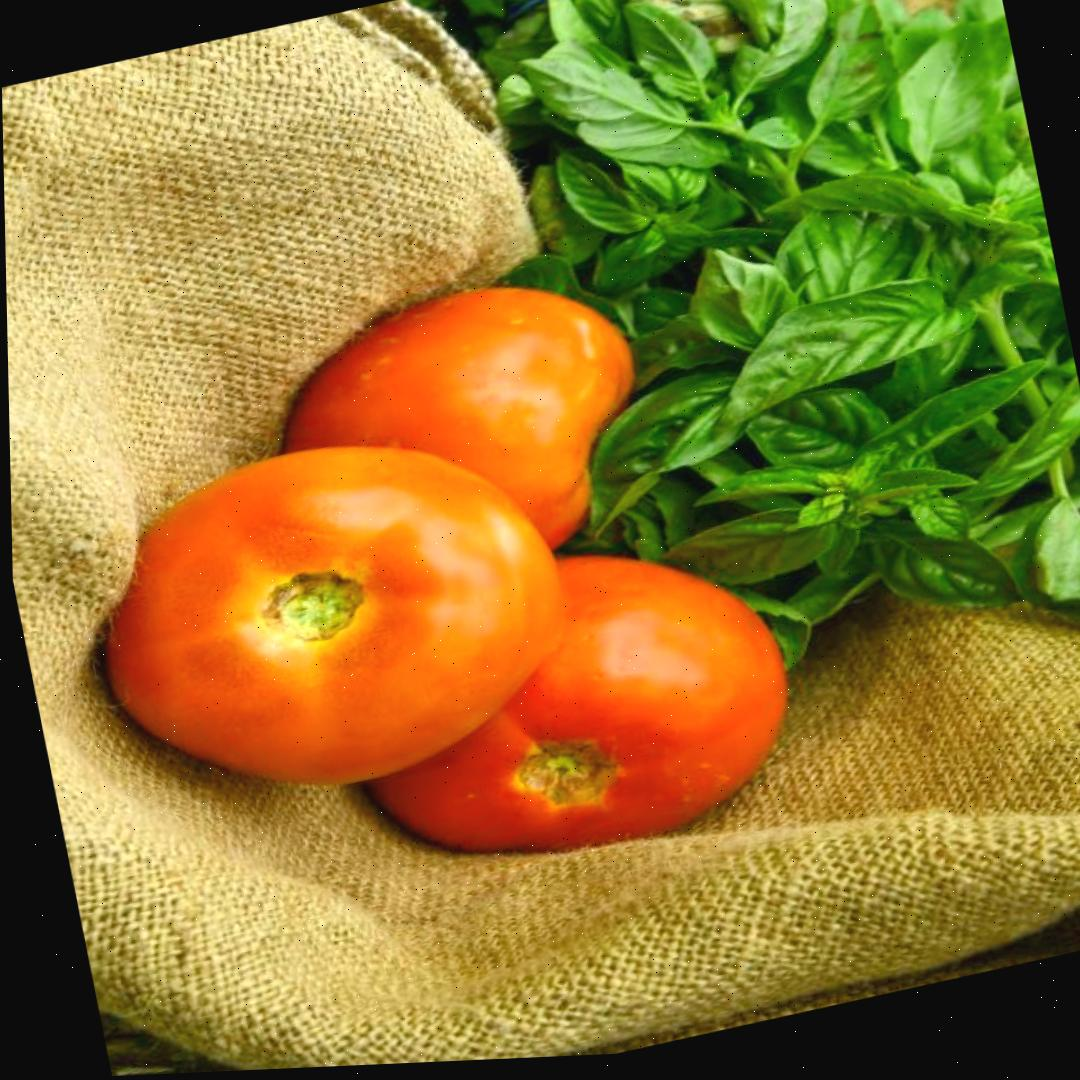matang: (64, 394, 605, 838), (318, 512, 813, 907), (255, 259, 662, 610)
